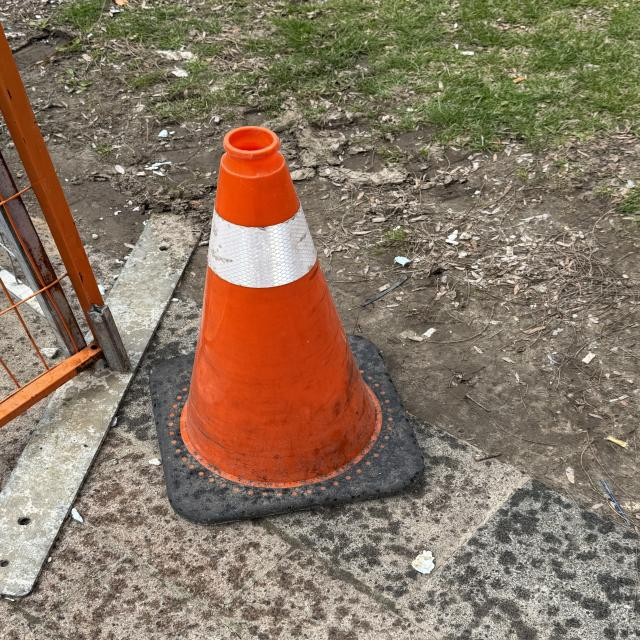Traffic Cone: (148, 124, 427, 526)
